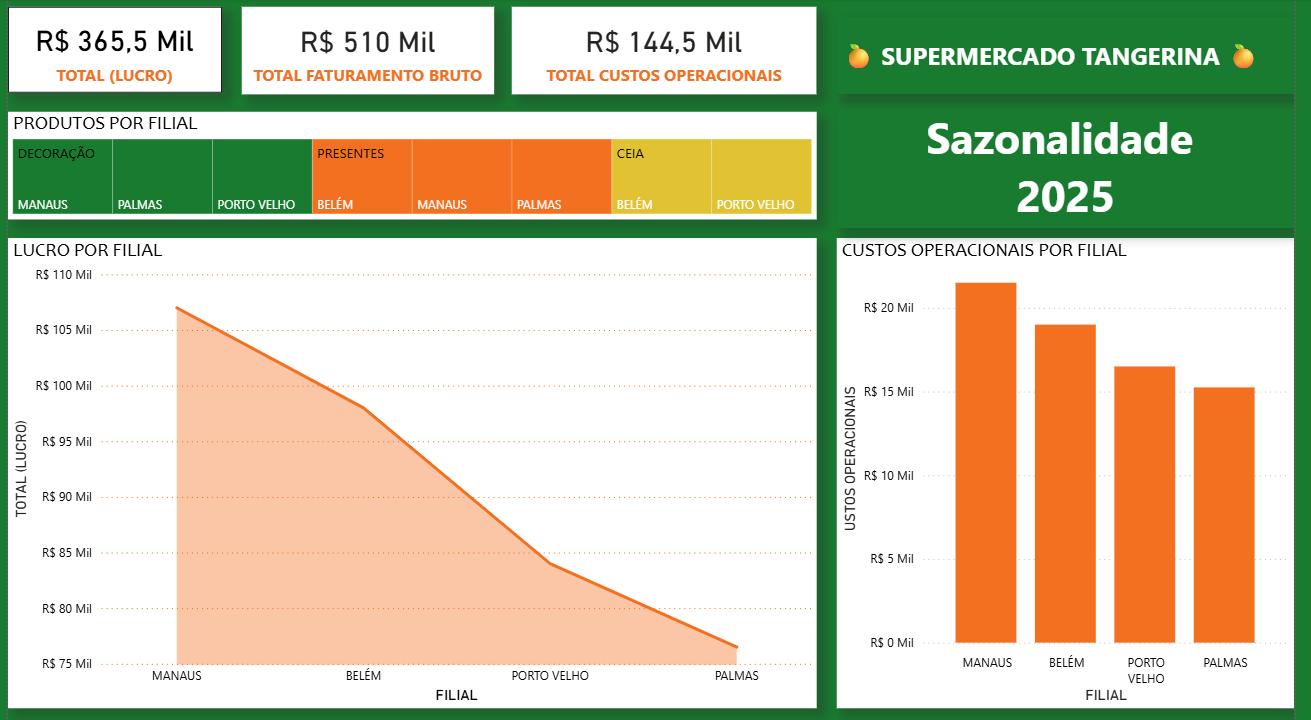

The dashboard page shown, as its layout file describes it:
{"tool":"powerbi","page":{"name":"Página 1","canvas":[1280,720],"ordinal":0},"visuals":[{"type":"card","fields":{"Values":["Sum(Tabela1.TOTAL (LUCRO))"]},"box":[0,8.7,212.7,85.8],"z":0},{"type":"card","fields":{"Values":["Sum(Tabela1.FATURAMENTO BRUTO)"]},"box":[232.6,8.7,251.3,87.1],"z":1000},{"type":"card","fields":{"Values":["Sum(Tabela1.CUSTOS OPERACIONAIS)"]},"box":[501.3,8.7,303.5,87.1],"z":2000},{"type":"areaChart","title":"LUCRO POR FILIAL","fields":{"Category":["Tabela1.FILIAL"],"Y":["Sum(Tabela1.TOTAL (LUCRO))"]},"box":[0,238.8,804.8,467.7],"z":3000},{"type":"clusteredColumnChart","title":"CUSTOS OPERACIONAIS POR FILIAL","fields":{"Category":["Tabela1.FILIAL"],"Y":["Avg(Tabela1.CUSTOS OPERACIONAIS)"]},"box":[824.7,238.8,455.3,467.7],"z":4000},{"type":"treemap","title":"PRODUTOS POR FILIAL","fields":{"Group":["Tabela1.CATEGORIA"],"Values":["CountNonNull(Tabela1.FILIAL)"],"Details":["Tabela1.FILIAL"]},"box":[0,113.2,804.8,107],"z":5000},{"type":"textbox","box":[824.7,18.7,455.3,77.1],"z":5001},{"type":"textbox","box":[824.7,104.5,455.3,124.4],"z":5002}]}

Visuals, with their boxes in screenshot pixels (x1, y1, x2, y2), scaled from the page's 1280x720 canvas onto the 1311x720 screenshot:
card - Sum(Tabela1.TOTAL (LUCRO)): 0, 9, 218, 94
card - Sum(Tabela1.FATURAMENTO BRUTO): 238, 9, 496, 96
card - Sum(Tabela1.CUSTOS OPERACIONAIS): 513, 9, 824, 96
"LUCRO POR FILIAL" areaChart: 0, 239, 824, 706
"CUSTOS OPERACIONAIS POR FILIAL" clusteredColumnChart: 845, 239, 1310, 706
"PRODUTOS POR FILIAL" treemap: 0, 113, 824, 220
textbox: 845, 19, 1310, 96
textbox: 845, 104, 1310, 229
